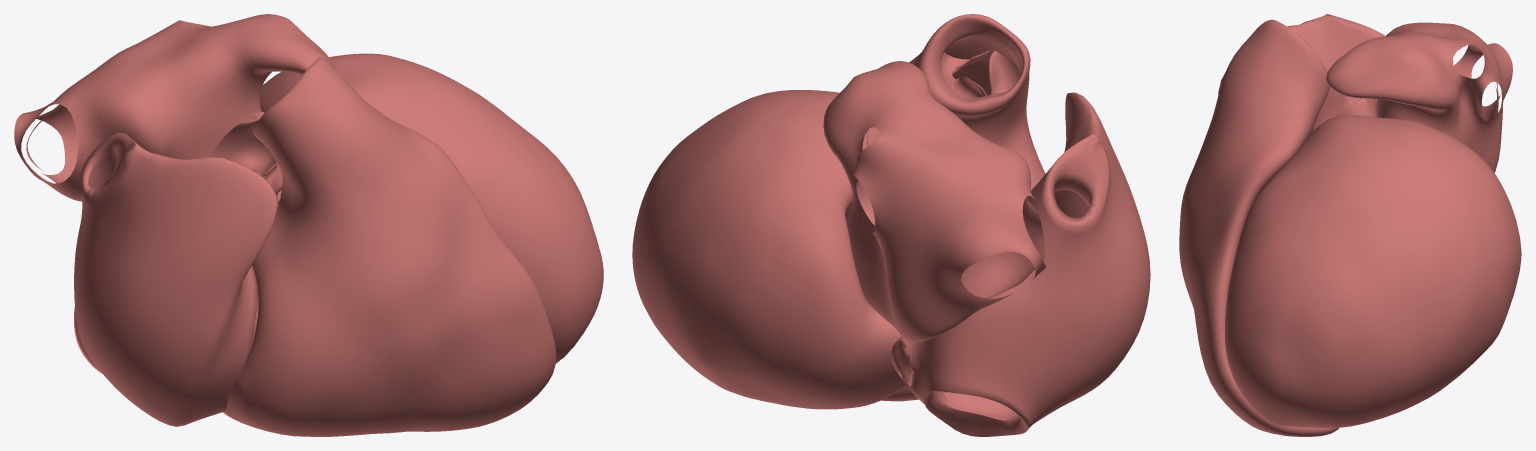
File: heart.glb
3 views of the same model, side by side, from view 1: azimuth 30°, elevation 25°; view 2: azimuth 150°, elevation 25°; view 3: azimuth 270°, elevation 25° (orthographic). The views are drawn at different scales.
Visible parts, largest first — view 1: VH_F_interventricular_septum, VH_F_left_cardiac_atrium; view 2: VH_F_left_cardiac_atrium, VH_F_interventricular_septum; view 3: VH_F_left_cardiac_atrium, VH_F_interventricular_septum.
Boxes of the visible parts, x1,y1,x2,y2 form: VH_F_interventricular_septum: (74, 57, 556, 436); VH_F_left_cardiac_atrium: (14, 14, 603, 363); VH_F_left_cardiac_atrium: (632, 61, 1046, 409); VH_F_interventricular_septum: (845, 14, 1150, 436); VH_F_left_cardiac_atrium: (1225, 22, 1521, 427); VH_F_interventricular_septum: (1179, 14, 1385, 436).
Size of the model in its own units: 0.1425 by 0.11 by 0.1015.
